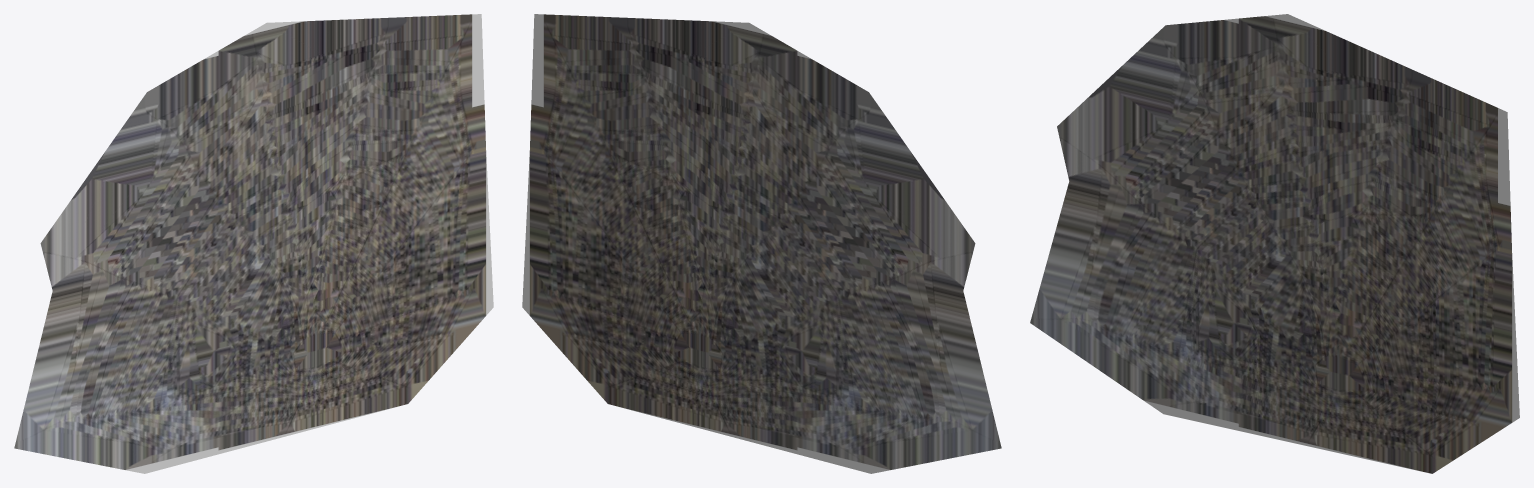
Rendered from cobweb-04.fbx.
3 renders of one model, left to right at view 1: azimuth 30°, elevation 25°; view 2: azimuth 150°, elevation 25°; view 3: azimuth 330°, elevation 25°, orthographic. The views are drawn at different scales.
Visible parts, largest first — view 1: Plane.010; view 2: Plane.010; view 3: Plane.010.
Part boxes in pixels (x1,y1,x2,y2): Plane.010: (14,14,493,473); Plane.010: (522,14,1001,473); Plane.010: (1030,14,1519,473).
Bounding box in the file's own units: 2.78 × 2.33 × 5.28e-07.
